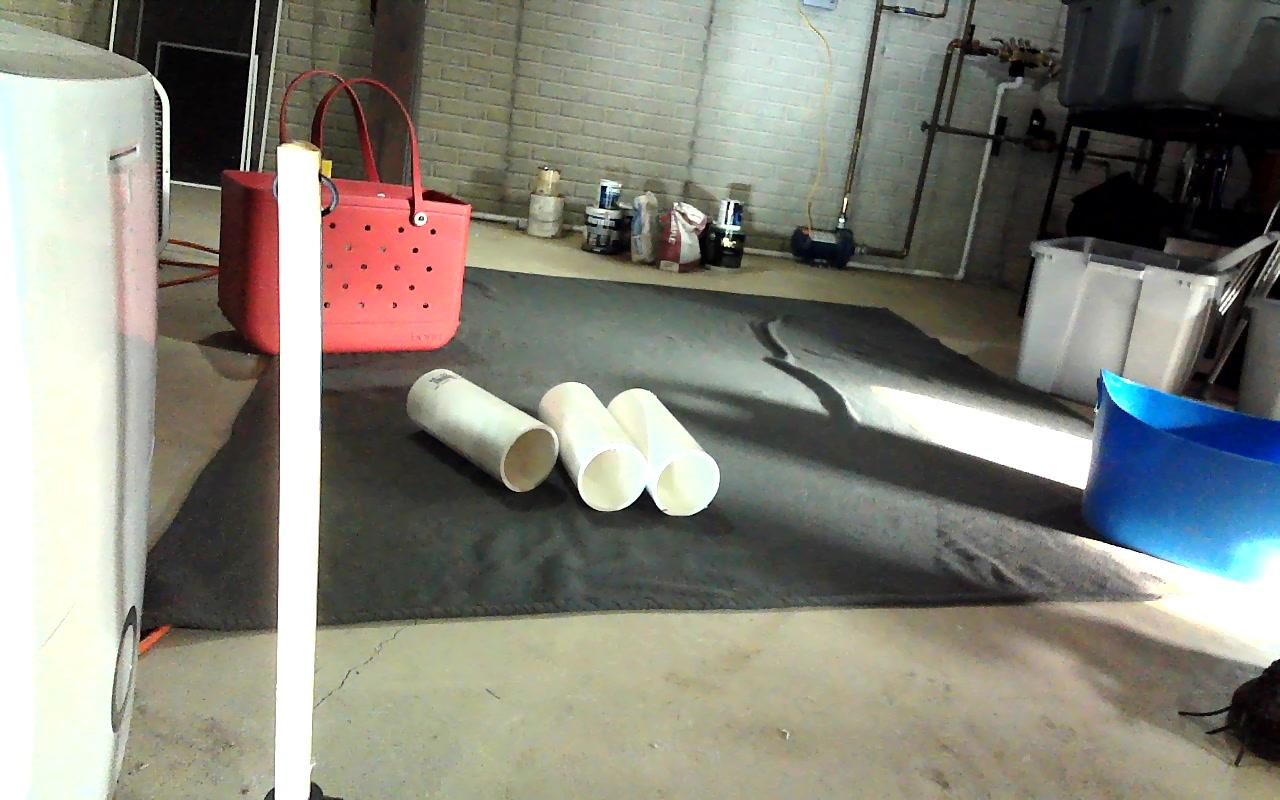coral: (406, 369, 556, 492), (539, 381, 646, 511), (612, 388, 718, 513)
